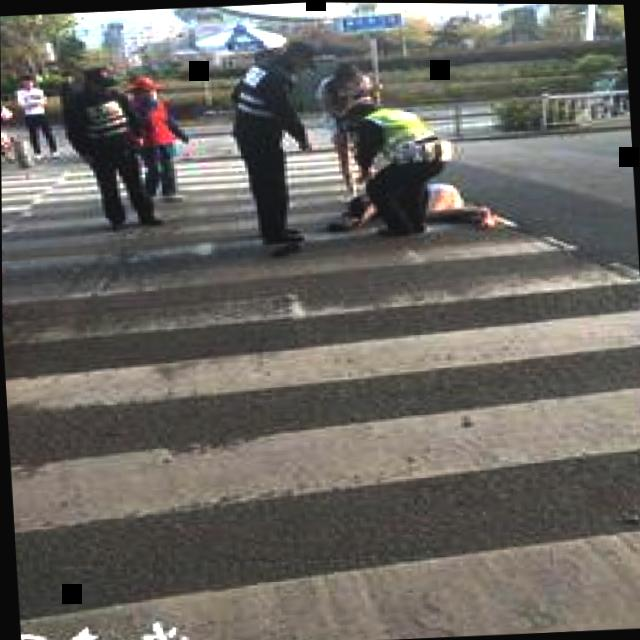Fall-Detected: (316, 161, 523, 233)
